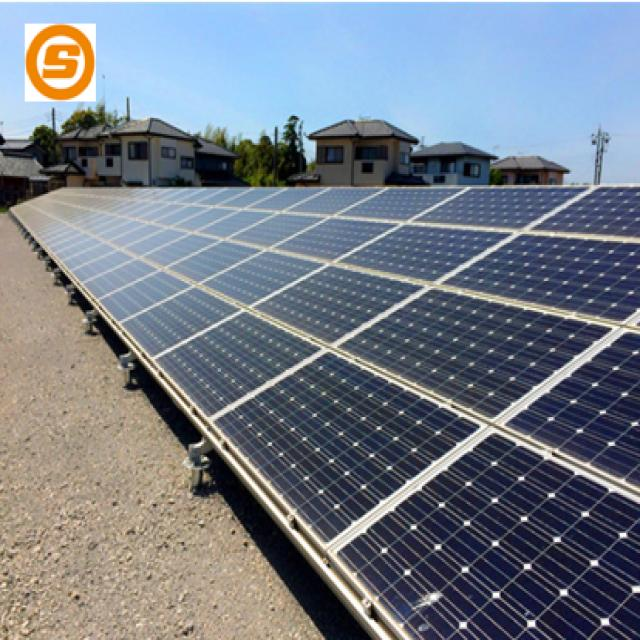clean-solar-panel: (12, 186, 640, 638)
